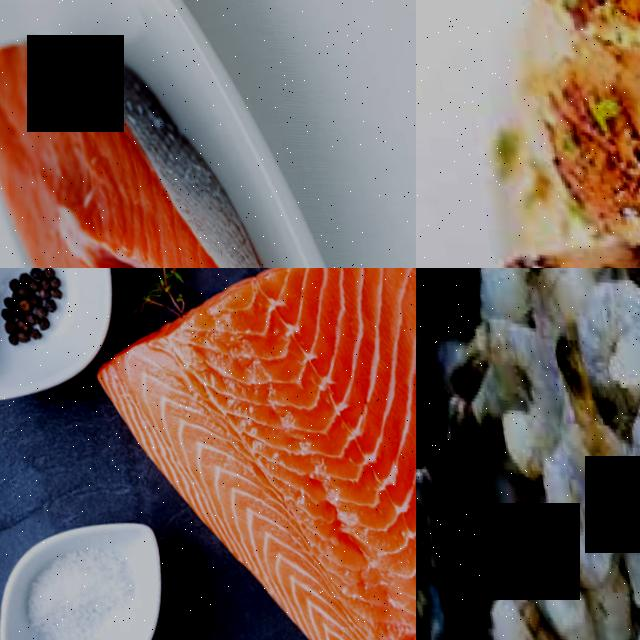salmon: (125, 307, 416, 640), (0, 8, 339, 268), (275, 268, 416, 567)
shrimp: (567, 268, 640, 389), (612, 376, 640, 519)
